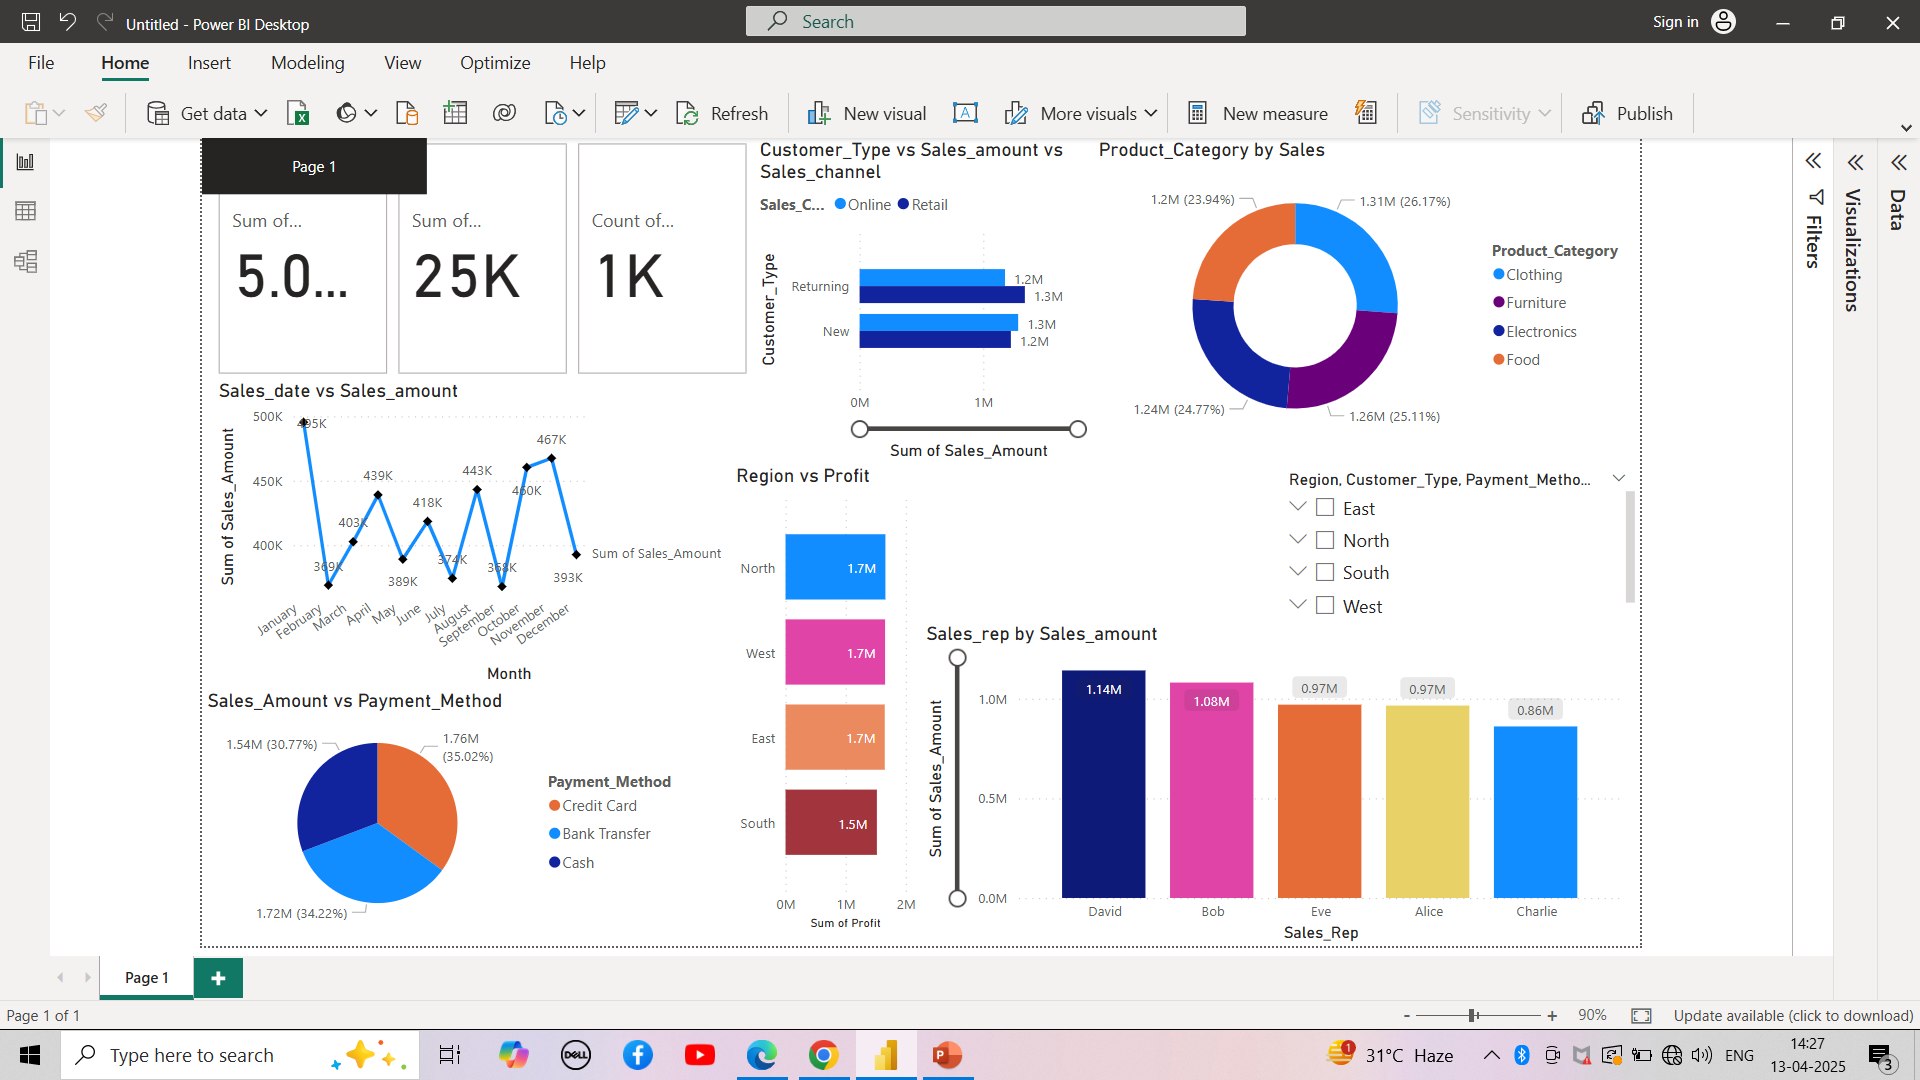

What the dashboard file says about the page in this screenshot:
{"tool":"powerbi","page":{"name":"Page 1","canvas":[1280,720],"ordinal":0},"visuals":[{"type":"cardVisual","fields":{"Data":["Profit.Sales_Amount","Profit.Quantity_Sold","Profit.Product_ID"]},"box":[9.6,0,481.2,215.3],"z":0},{"type":"slicer","fields":{"Values":["Profit.Region","Profit.Customer_Type","Profit.Payment_Method","Profit.Sales_Rep","Profit.Sales_Channel","Profit.Product_Category"]},"box":[955.2,290.7,325.6,139.9],"z":1},{"type":"lineChart","title":"Sales_date vs Sales_amount","fields":{"Category":["Profit.Sale_Date.Variation.Date Hierarchy.Month"],"Y":["Profit.Sales_Amount"]},"box":[9.6,215.3,460.7,275.6],"z":2},{"type":"donutChart","title":"Product_Category by Sales","fields":{"Category":["Profit.Product_Category"],"Y":["Profit.Sales_Amount"]},"box":[793.6,0,486.9,280],"z":3},{"type":"columnChart","title":"Sales_rep by Sales_amount","fields":{"Category":["Profit.Sales_Rep"],"Y":["Profit.Sales_Amount"]},"box":[648.8,446.2,631,273.8],"z":4},{"type":"clusteredBarChart","title":" Customer_Type vs Sales_amount vs Sales_channel","fields":{"Category":["Profit.Customer_Type"],"Y":["Profit.Sales_Amount"],"Series":["Profit.Sales_Channel"]},"box":[491.9,0,301.6,280.4],"z":5},{"type":"pageNavigator","box":[0,0,200,50],"z":6},{"type":"barChart","title":"Region vs Profit","fields":{"Category":["Profit.Region"],"Y":["Profit.Profit"]},"box":[471,280,169,430],"z":7},{"type":"pieChart","title":"Sales_Amount vs Payment_Method","fields":{"Y":["Profit.Sales_Amount"],"Category":["Profit.Payment_Method"]},"box":[0,490.8,438.7,219.4],"z":8}]}

Visuals, with their boxes on the page's 1280x720 design canvas (x1, y1, x2, y2). These are canvas units, not pixel positions in the 1920x1080 screenshot, which may show the page scaled, cropped or inside an application window:
cardVisual - Profit.Sales_Amount x Profit.Quantity_Sold: <box>10,0,491,215</box>
slicer - Profit.Region x Profit.Customer_Type: <box>955,291,1281,431</box>
"Sales_date vs Sales_amount" lineChart: <box>10,215,470,491</box>
"Product_Category by Sales" donutChart: <box>794,0,1280,280</box>
"Sales_rep by Sales_amount" columnChart: <box>649,446,1280,720</box>
" Customer_Type vs Sales_amount vs Sales_channel" clusteredBarChart: <box>492,0,794,280</box>
pageNavigator: <box>0,0,200,50</box>
"Region vs Profit" barChart: <box>471,280,640,710</box>
"Sales_Amount vs Payment_Method" pieChart: <box>0,491,439,710</box>
